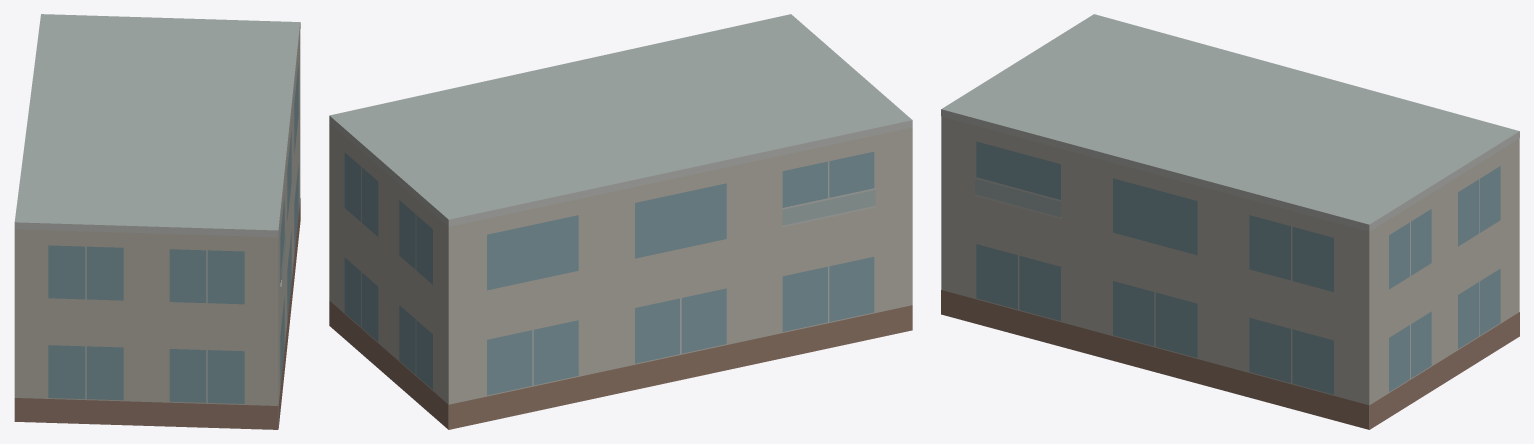
The model's file is survey-upis-32476355.glb.
3 renders of one model, left to right at view 1: azimuth 30°, elevation 25°; view 2: azimuth 150°, elevation 25°; view 3: azimuth 270°, elevation 25°, orthographic. The views are drawn at different scales.
Parts seen in each view (by area): view 1: survey-upis-32476355.tmp; view 2: survey-upis-32476355.tmp; view 3: survey-upis-32476355.tmp.
Boxes of the visible parts, box(x1,y1,x2,y2) form: survey-upis-32476355.tmp: box(14, 14, 300, 429); survey-upis-32476355.tmp: box(329, 14, 912, 429); survey-upis-32476355.tmp: box(941, 14, 1519, 429).
Size of the model in its own units: 15.64 by 7.1 by 18.15.
